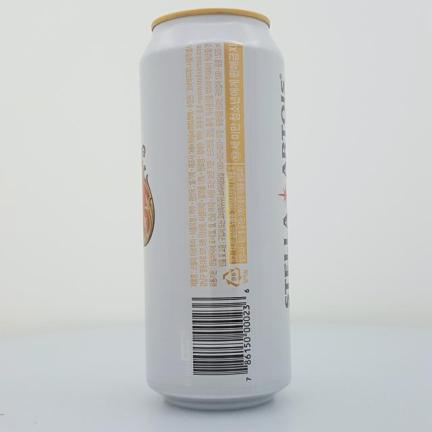can: (140, 9, 291, 409)
